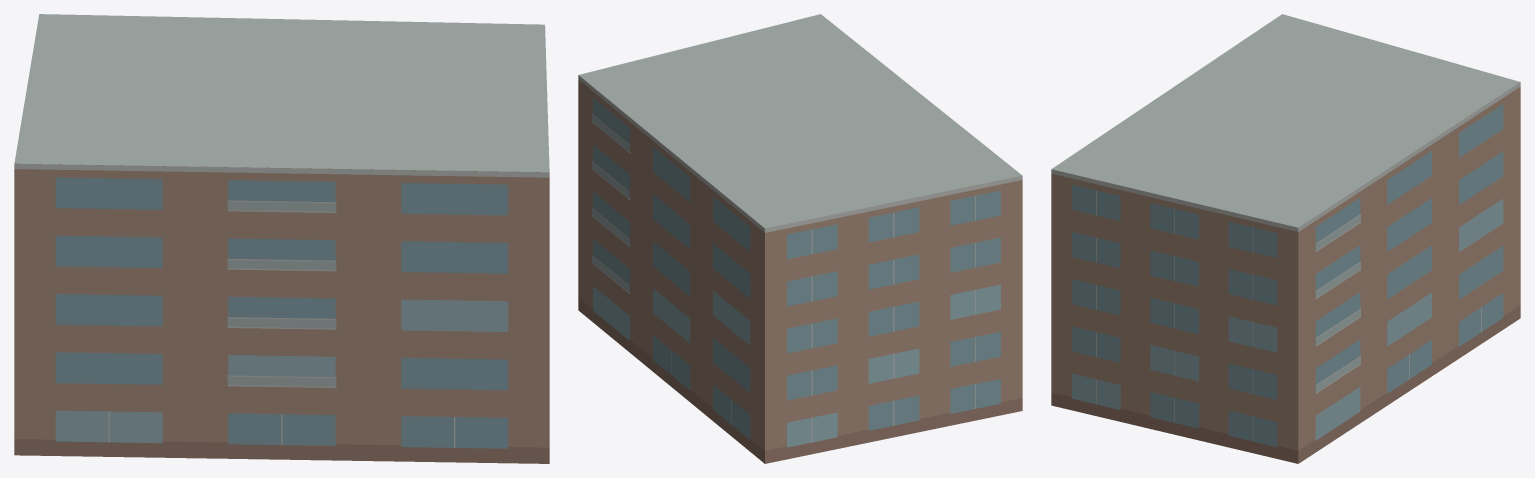
File: survey-upis-32813562.glb
3 views of the same model, side by side, from view 1: azimuth 30°, elevation 25°; view 2: azimuth 150°, elevation 25°; view 3: azimuth 270°, elevation 25° (orthographic). The views are drawn at different scales.
Parts seen in each view (by area): view 1: survey-upis-32813562.tmp; view 2: survey-upis-32813562.tmp; view 3: survey-upis-32813562.tmp.
Boxes of the visible parts, x1,y1,x2,y2 form: survey-upis-32813562.tmp: [14, 14, 549, 463]; survey-upis-32813562.tmp: [578, 14, 1022, 463]; survey-upis-32813562.tmp: [1051, 14, 1520, 463].
Bounding box in the file's own units: 25.52 × 13.15 × 23.69.
